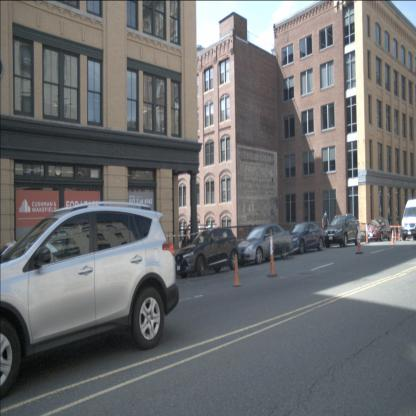human-pedestrian-adult: (322, 211, 330, 241), (387, 217, 391, 234)
movable_object-trafficcone: (267, 229, 277, 278), (232, 255, 242, 287), (356, 223, 363, 254), (365, 221, 370, 244), (390, 229, 395, 245), (398, 224, 402, 241), (394, 229, 397, 242)
vehicle-car: (0, 206, 179, 400), (172, 228, 240, 278), (236, 223, 292, 268), (282, 221, 326, 254), (322, 216, 360, 249), (365, 218, 391, 243), (401, 199, 416, 242)
vehicle-motorcycle: (181, 221, 201, 250)
